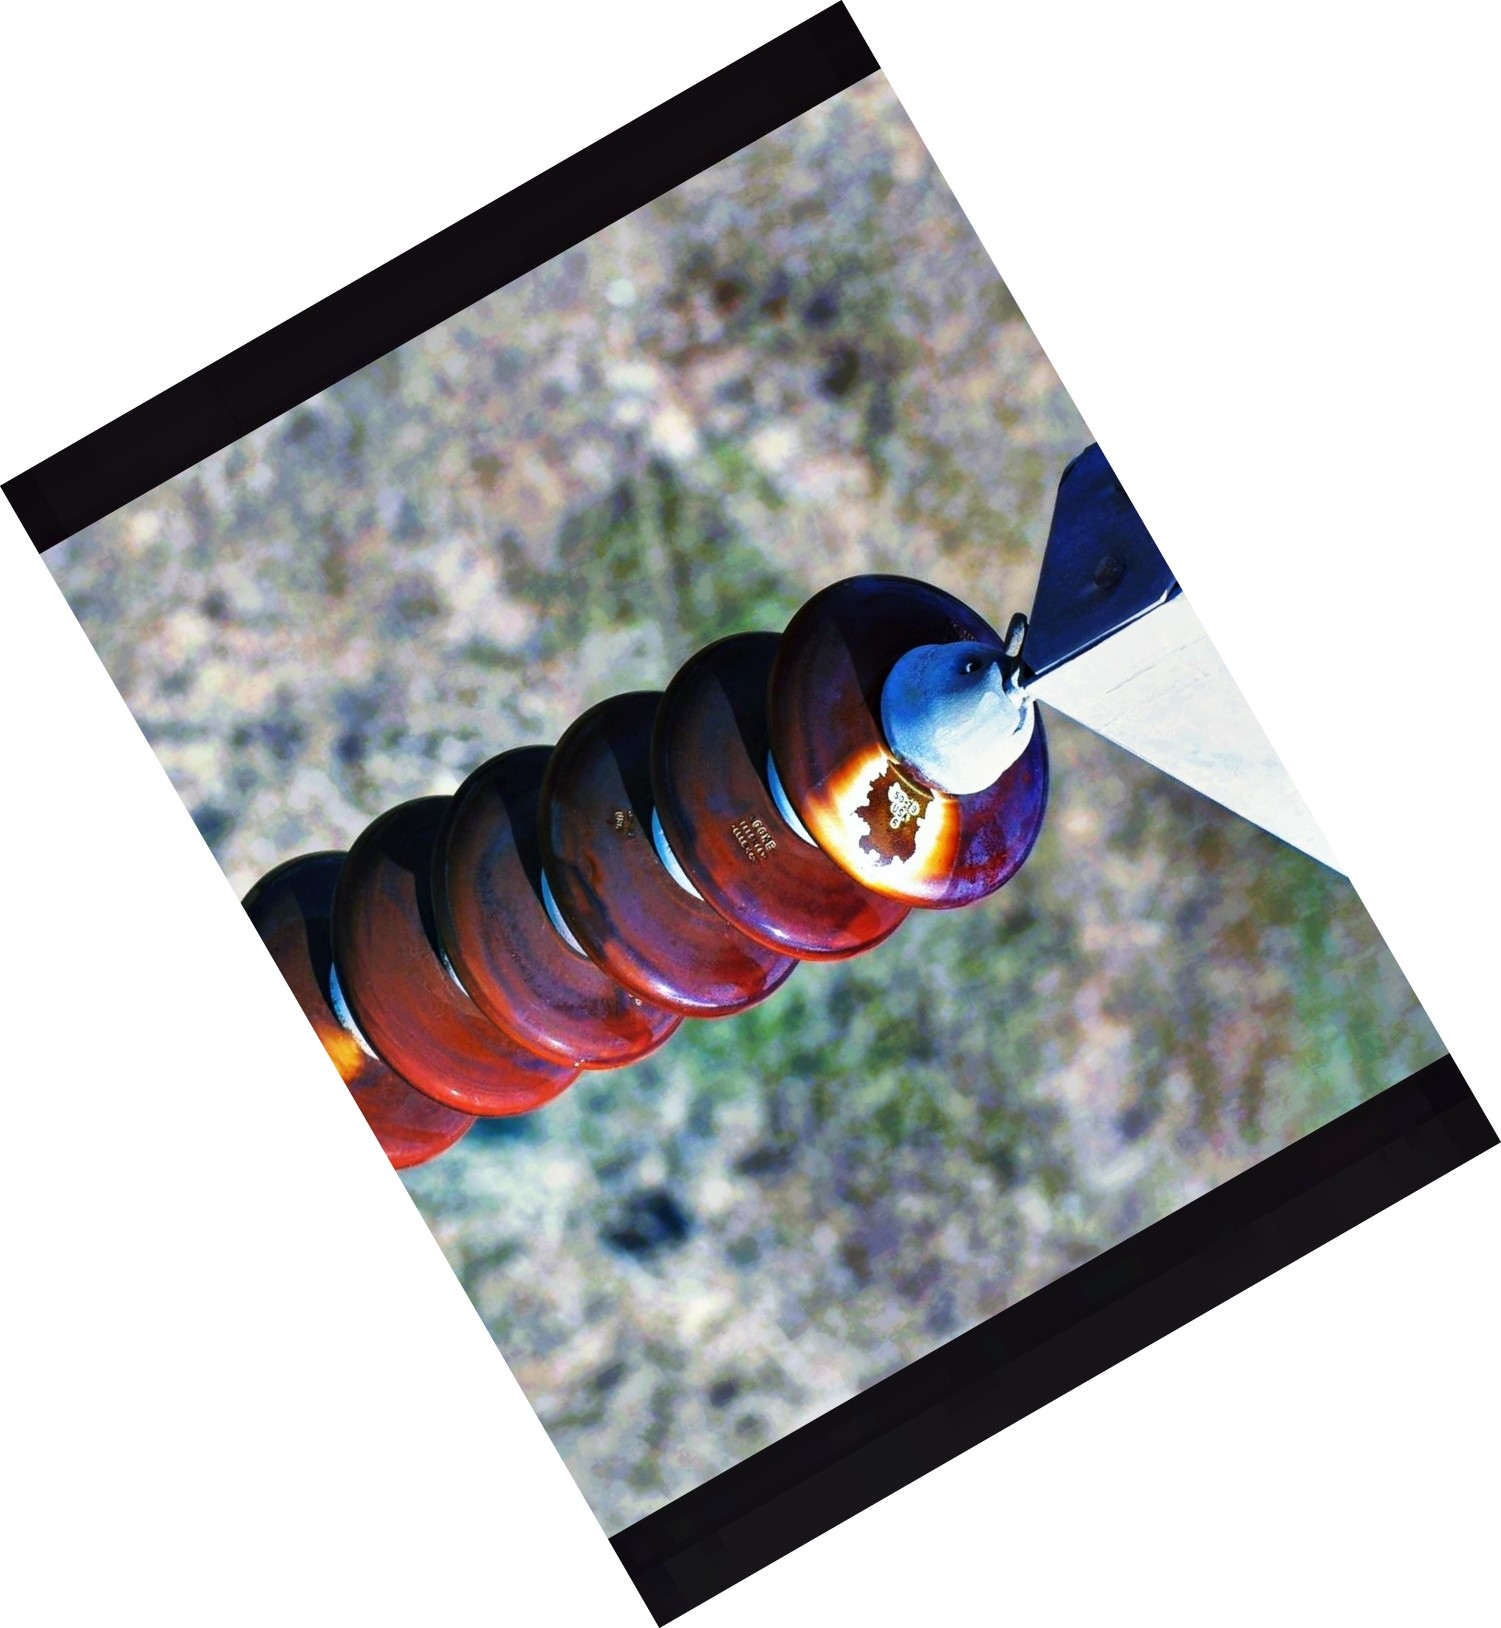Insulator flashover: (753, 554, 1063, 918)
